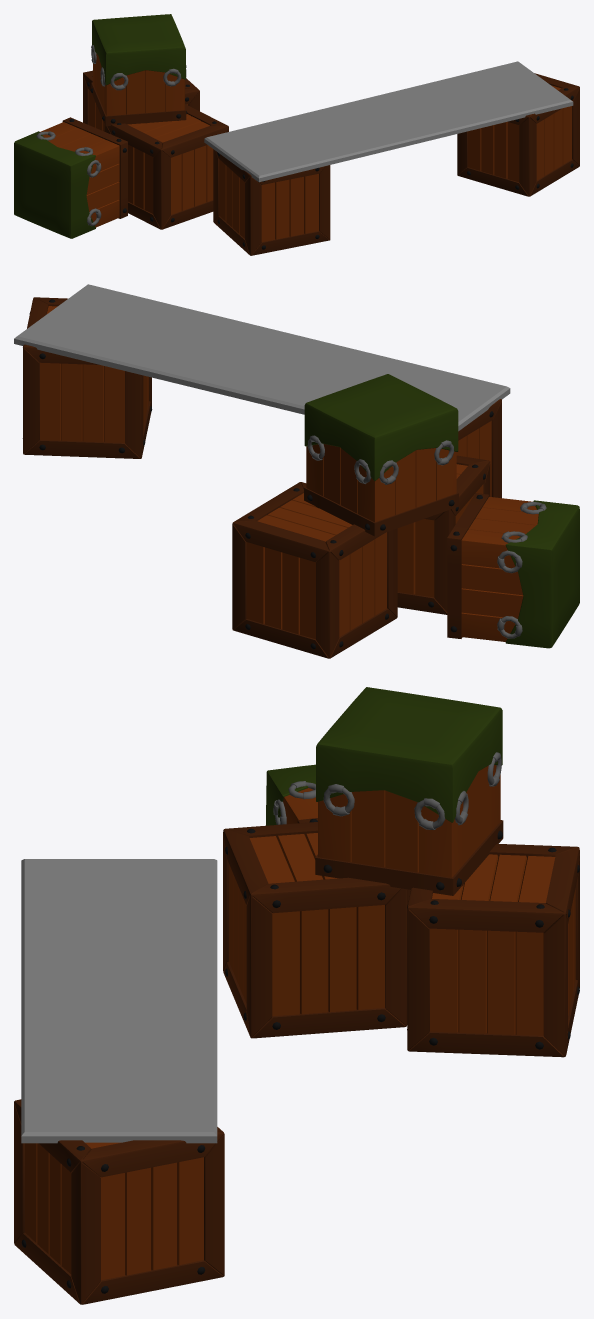
Rendered from unpackingTable_v1.fbx.
3 renders of one model, top to bottom at view 1: azimuth 30°, elevation 25°; view 2: azimuth 150°, elevation 25°; view 3: azimuth 270°, elevation 25°, orthographic. The views are drawn at different scales.
Visible parts, largest first — view 1: Box008; view 2: Box008; view 3: Box008.
Part boxes in pixels (bbox=[...]): Box008: bbox=[14, 14, 579, 255]; Box008: bbox=[14, 284, 579, 658]; Box008: bbox=[14, 687, 579, 1304].
Size of the model in its own units: 908 by 280 by 520.
